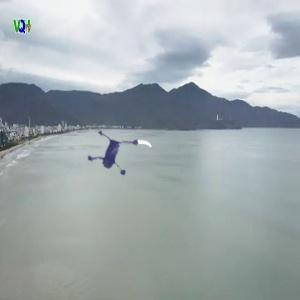drone: (80, 121, 156, 197)
